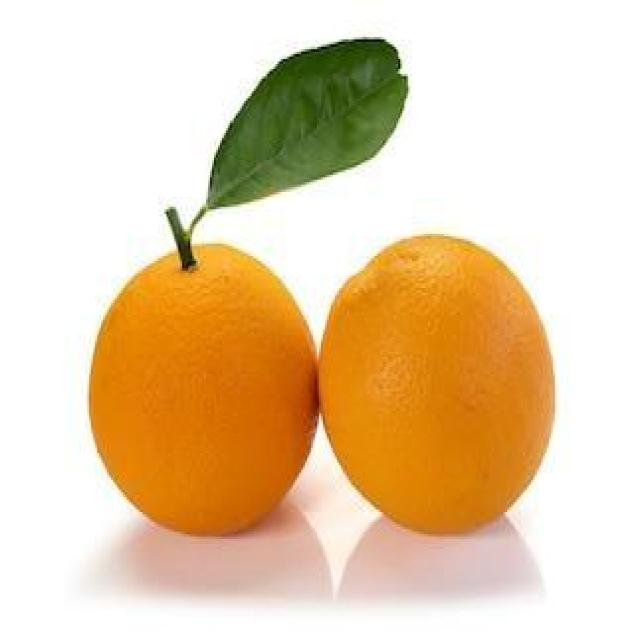orange: (317, 231, 559, 536), (87, 242, 323, 536)
